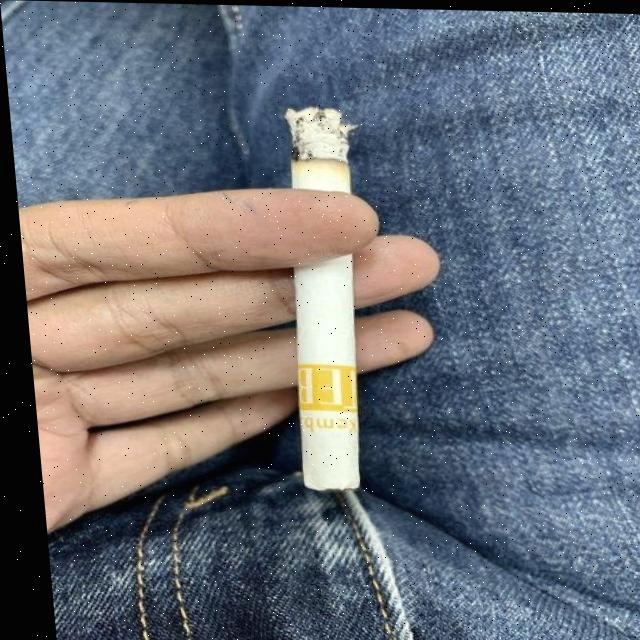cigarette: (268, 105, 376, 486)
